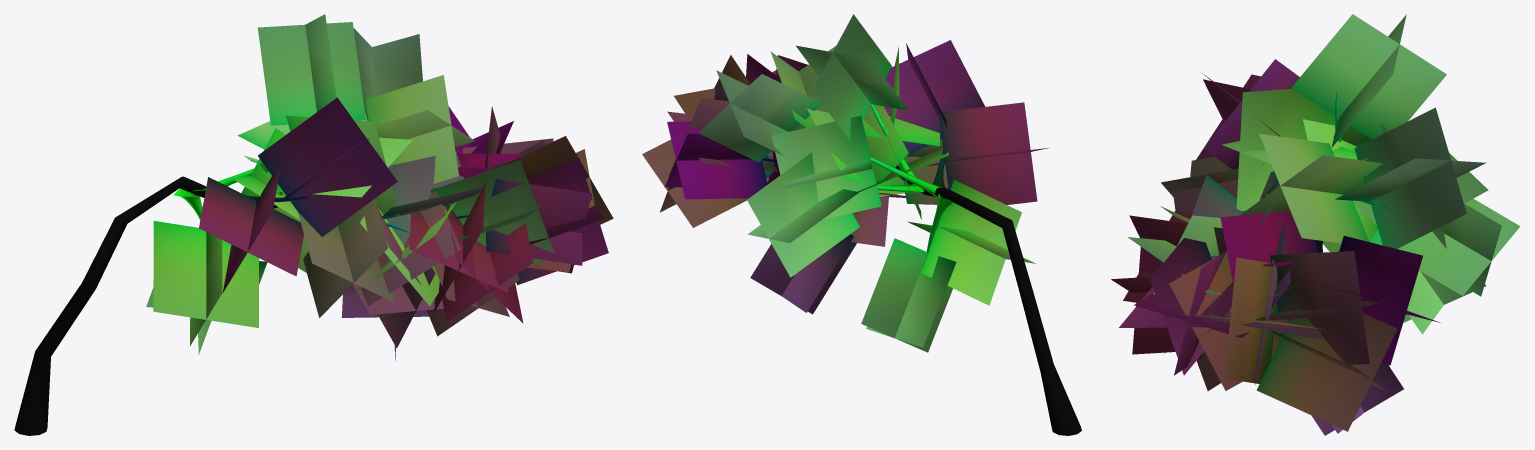
Rendered from URP_P5_Tree_7_LOD_2.fbx.
The picture shows the model from 3 angles, left to right: view 1: azimuth 30°, elevation 25°; view 2: azimuth 150°, elevation 25°; view 3: azimuth 270°, elevation 25°; orthographic projection. The views are drawn at different scales.
Visible parts, largest first — view 1: Tree_7_LOD_2; view 2: Tree_7_LOD_2; view 3: Tree_7_LOD_2.
Part boxes in pixels (<box>): Tree_7_LOD_2: <box>14,14,613,435</box>; Tree_7_LOD_2: <box>642,14,1081,435</box>; Tree_7_LOD_2: <box>1111,14,1520,435</box>.
Bounding box in the file's own units: 466 × 325 × 295.
